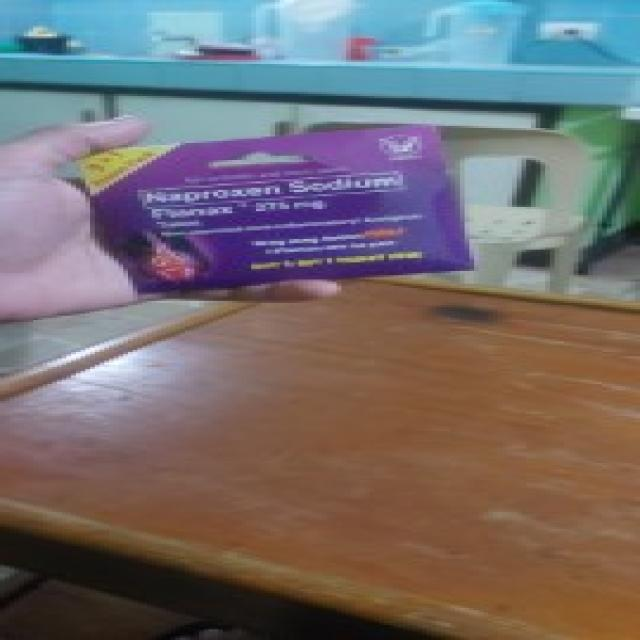Cacat: (76, 128, 476, 297)
